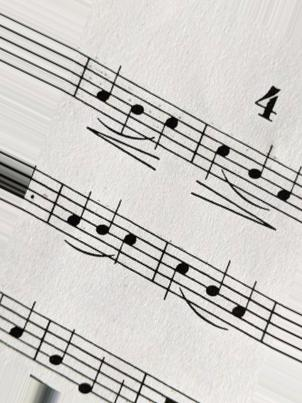A: (228, 271, 261, 345), (64, 180, 95, 253), (93, 52, 123, 126), (8, 294, 37, 365), (272, 156, 302, 223)
B: (243, 143, 277, 212), (198, 258, 232, 327), (92, 200, 123, 269), (118, 78, 144, 138)
E: (76, 336, 108, 402)
G: (47, 319, 76, 386)
HC: (157, 236, 196, 309), (150, 94, 183, 161), (202, 121, 235, 188), (112, 211, 140, 277)
